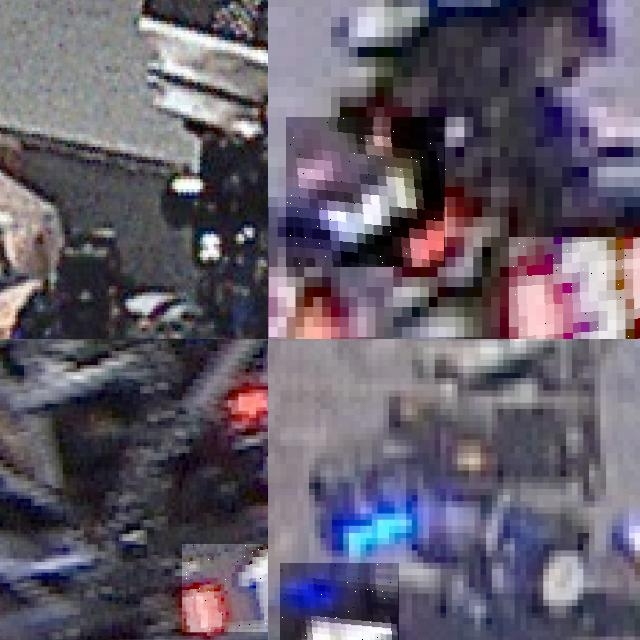B4: (280, 563, 400, 640)
R1: (182, 544, 268, 632)
R3: (286, 117, 446, 267), (509, 237, 640, 339), (268, 257, 330, 339)
